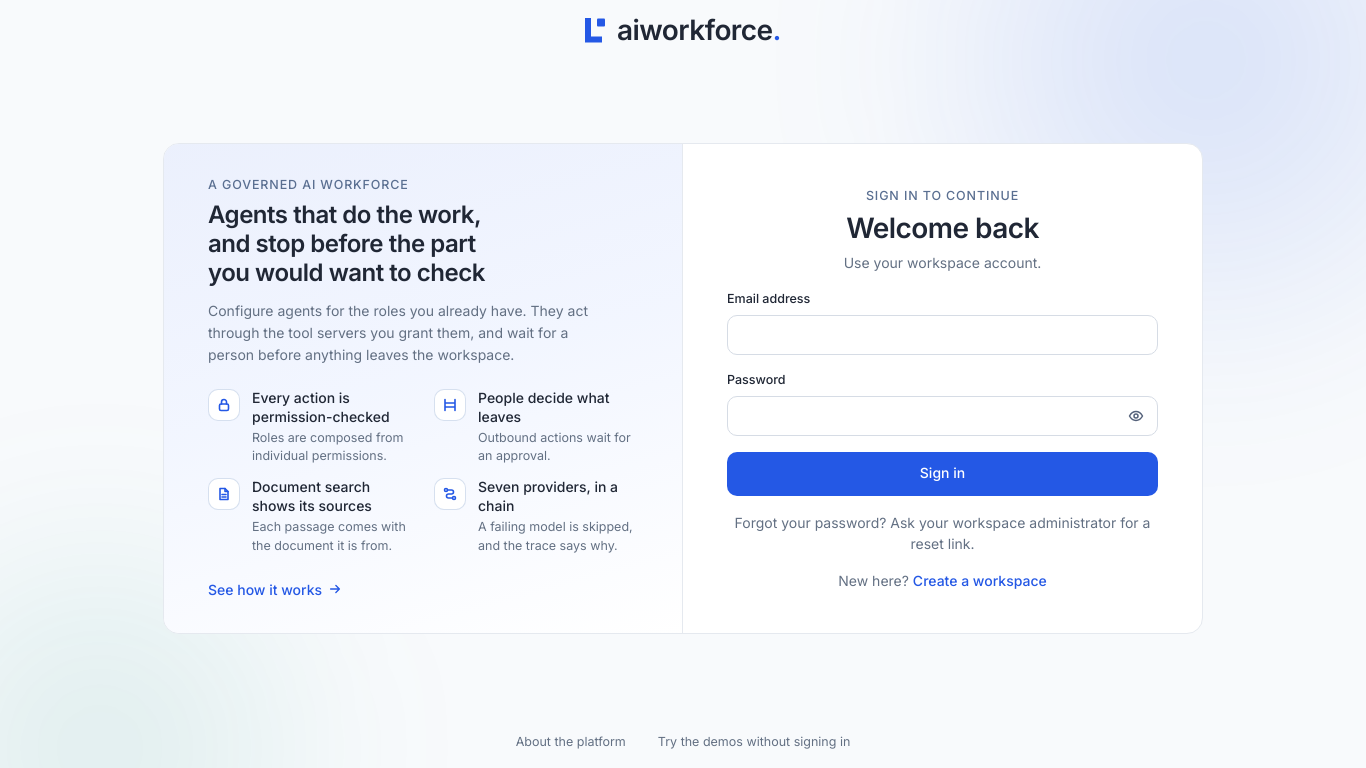
Test: Choosing a workspace after sign-in › stays on the picker with the reason when a workspace cannot be opened
Type "maya@example.com" into the field labelled "Email address". click: (942, 335)
box: [727,315,1158,355]
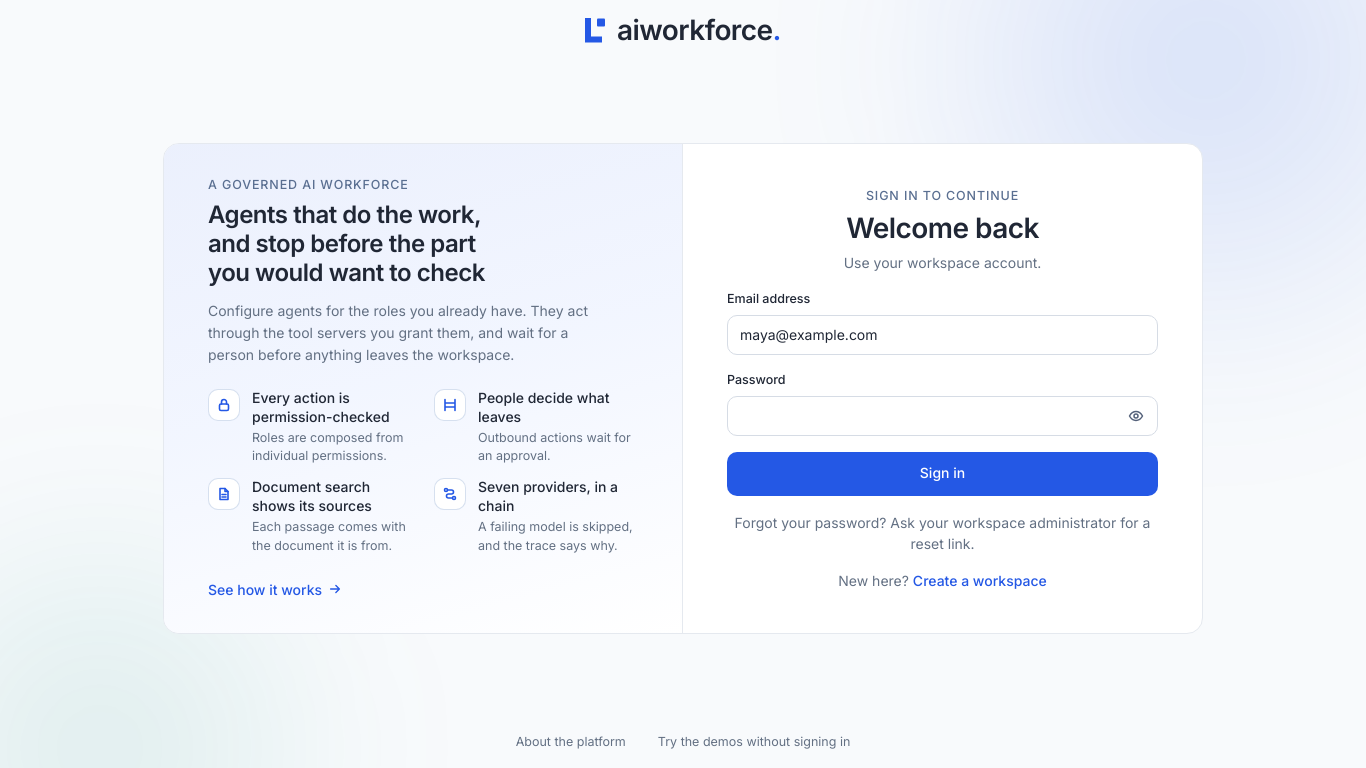
Type "correct horse battery" into the password field labelled "Password". click: (942, 416)
box: [727,396,1158,436]
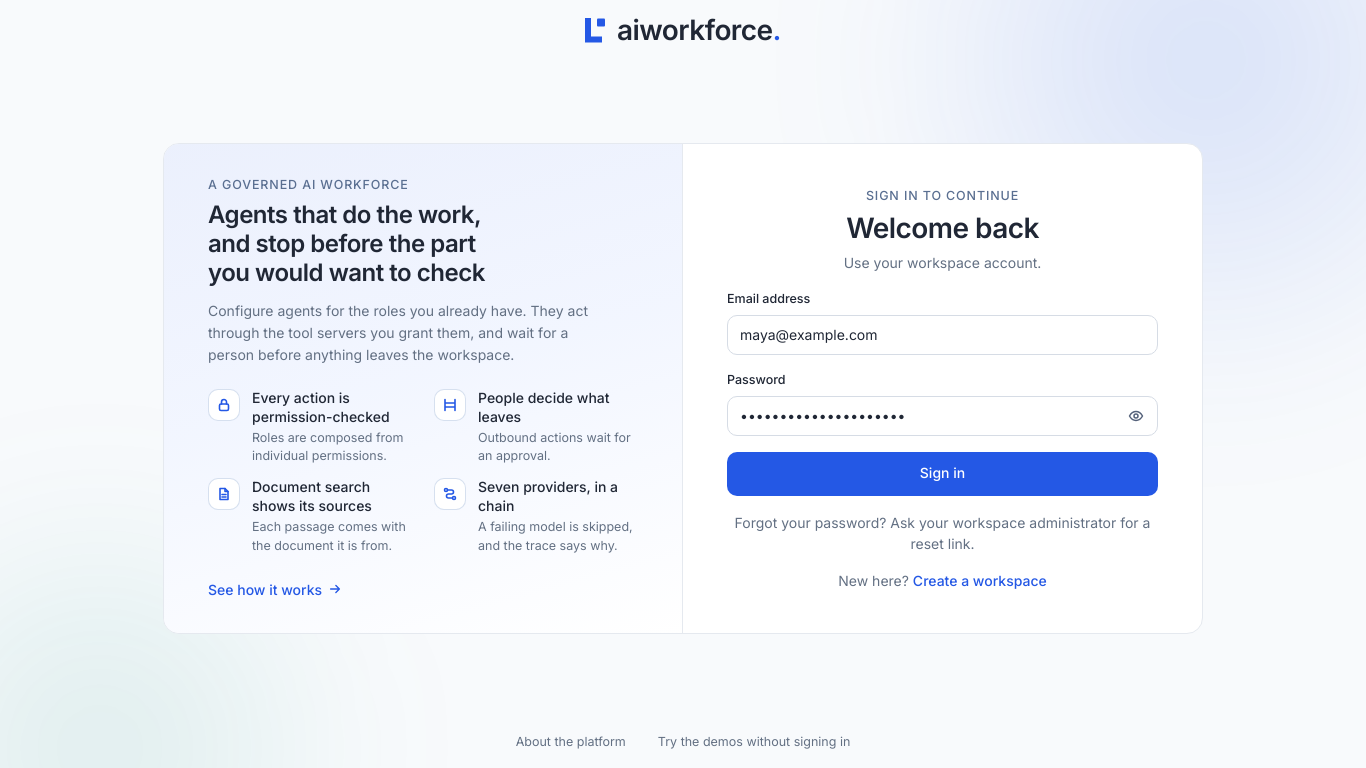
Click the button "Sign in". click: (942, 474)
box: [727,452,1158,496]
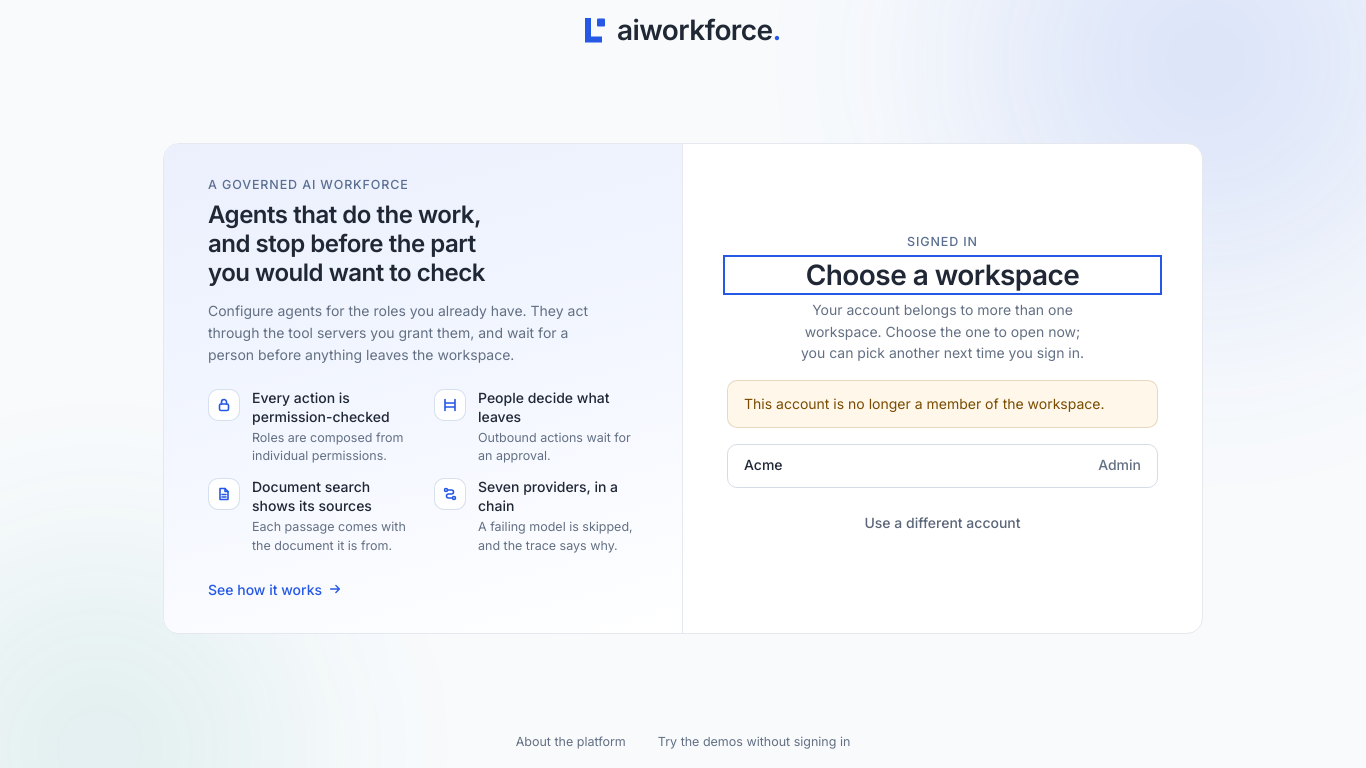
Expected: the message reads "This account is no longer a member of the workspace.", [744,395,1104,412]
Expected: the button with aria-label "Open Acme, as Admin" is shown, [727,444,1158,488]
